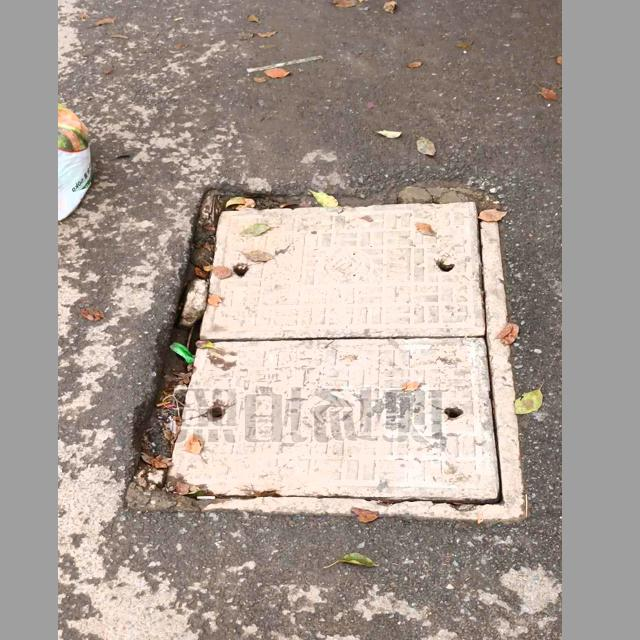circle: (121, 187, 520, 519)
